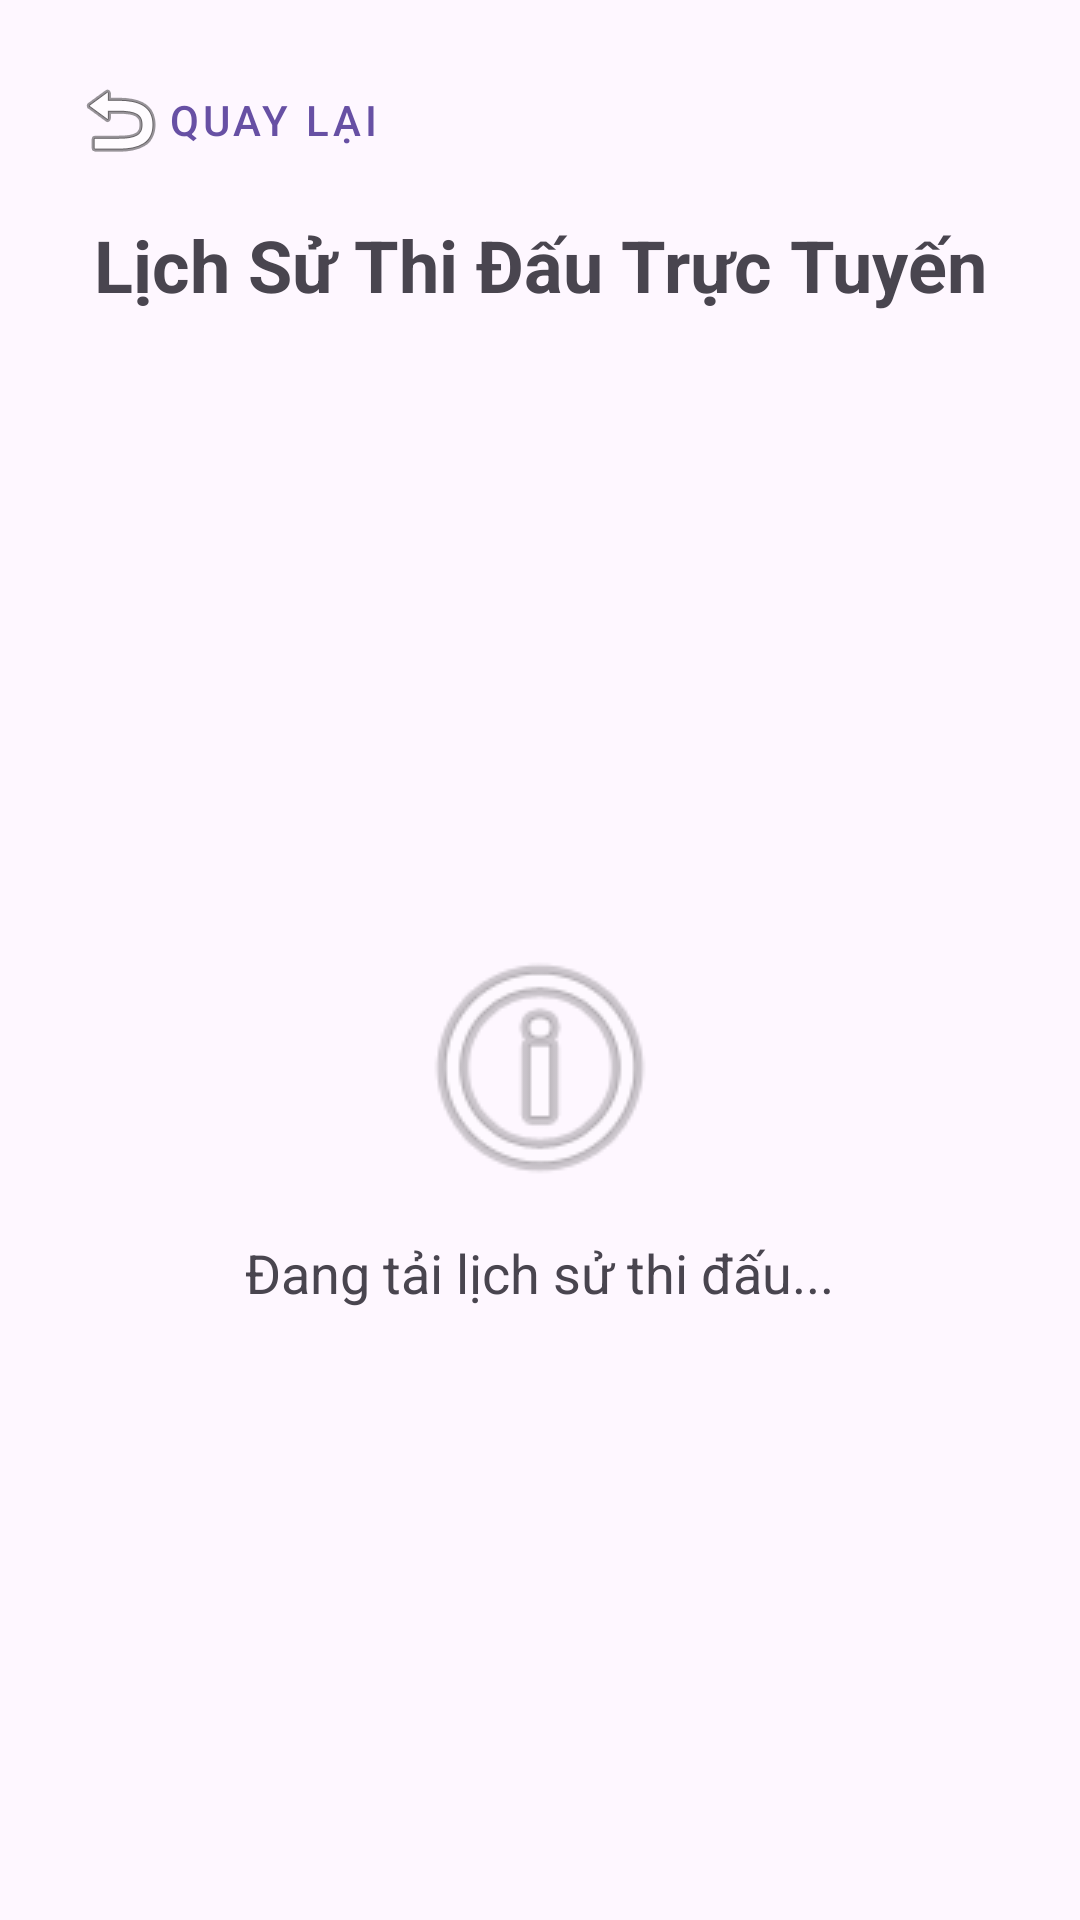

Icon bounding boxes for this 1080px x 1920px phone screenshot, format (x1, y1, x2, y2):
No data: (437, 965, 643, 1171)
